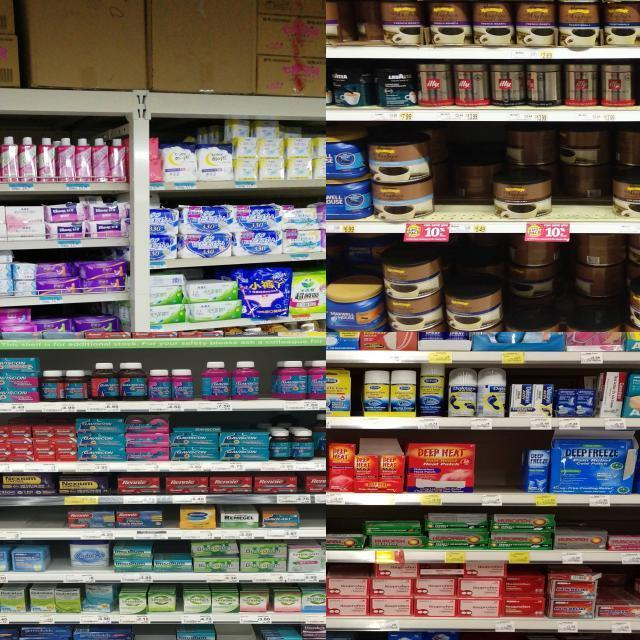Imprecise: (500, 232, 624, 332), (549, 125, 619, 224), (436, 126, 501, 225), (328, 234, 392, 332), (500, 126, 553, 230), (593, 571, 640, 629), (346, 0, 389, 54), (191, 122, 227, 182)
